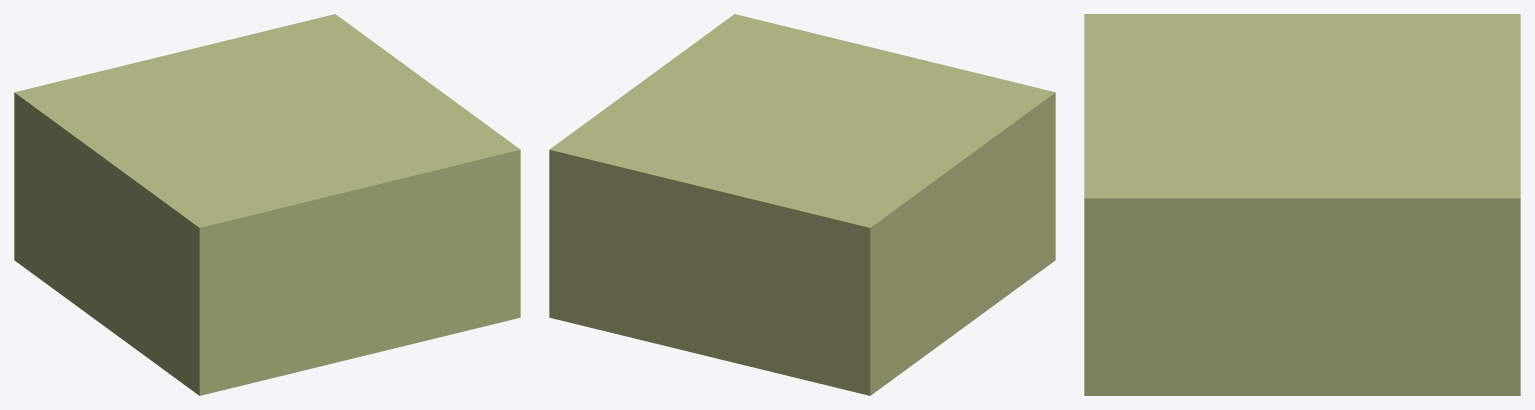
The model's file is Beach.glb.
The picture shows the model from 3 angles, left to right: view 1: azimuth 30°, elevation 25°; view 2: azimuth 150°, elevation 25°; view 3: azimuth 270°, elevation 25°; orthographic projection. The views are drawn at different scales.
Visible parts, largest first — view 1: Beach; view 2: Beach; view 3: Beach.
Part boxes in pixels (x1=…): Beach: x1=14, y1=14, x2=520, y2=395; Beach: x1=549, y1=14, x2=1055, y2=395; Beach: x1=1084, y1=14, x2=1520, y2=395.
Bounding box in the file's own units: 2 × 1 × 2.
